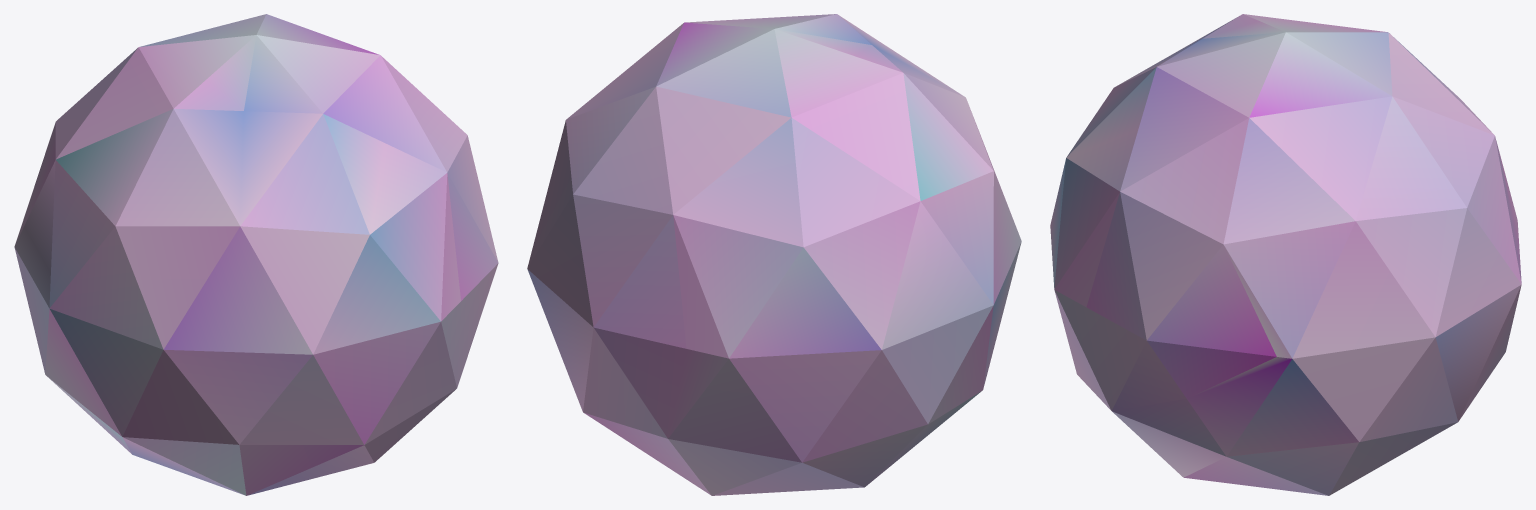
The picture shows the model from 3 angles, left to right: view 1: azimuth 30°, elevation 25°; view 2: azimuth 150°, elevation 25°; view 3: azimuth 270°, elevation 25°; orthographic projection. The views are drawn at different scales.
Visible parts, largest first — view 1: faceted_shell; view 2: faceted_shell; view 3: faceted_shell.
Boxes of the visible parts, x1,y1,x2,y2 form: faceted_shell: (14,14,498,495); faceted_shell: (527,14,1021,495); faceted_shell: (1050,14,1521,495).
Bounding box in the file's own units: 0.2999 × 0.3 × 0.2877.
